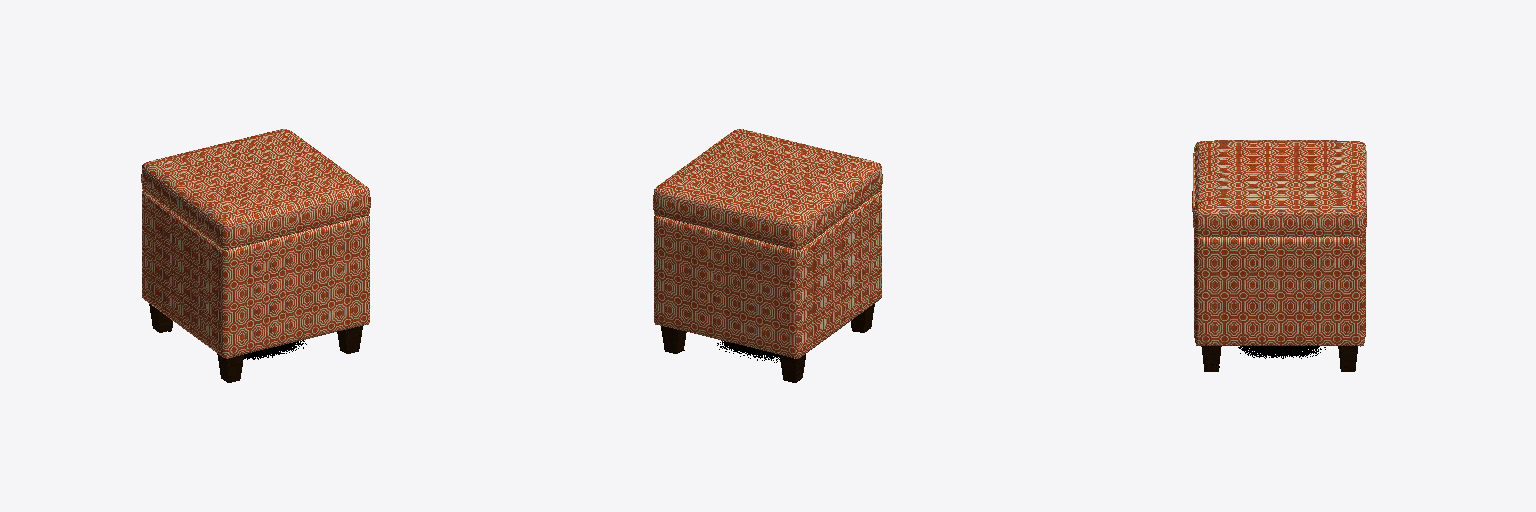
3 views of the same model, side by side, from view 1: azimuth 30°, elevation 25°; view 2: azimuth 150°, elevation 25°; view 3: azimuth 270°, elevation 25° (orthographic).
Parts seen in each view (by area): view 1: not_clear_obj_0_v6, not_clear_obj_4_v6; view 2: not_clear_obj_0_v6, not_clear_obj_4_v6; view 3: not_clear_obj_0_v6, not_clear_obj_4_v6, shadow_plane_v6.
Part boxes in pixels (left/top/right/bottom): not_clear_obj_0_v6: left=141, top=129, right=370, bottom=358; not_clear_obj_4_v6: left=149, top=304, right=362, bottom=382; not_clear_obj_0_v6: left=653, top=129, right=882, bottom=358; not_clear_obj_4_v6: left=661, top=304, right=874, bottom=382; not_clear_obj_0_v6: left=1192, top=140, right=1366, bottom=346; not_clear_obj_4_v6: left=1201, top=346, right=1357, bottom=371; shadow_plane_v6: left=1219, top=346, right=1340, bottom=368.
Size of the model in its own units: 75.77 by 45.76 by 75.77.
6 materials, 3 textured.